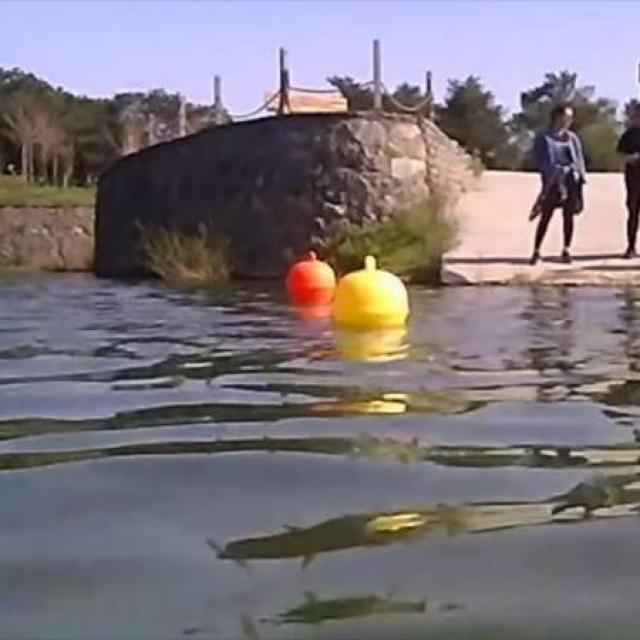buoy: (337, 256, 418, 334), (289, 254, 337, 304)
